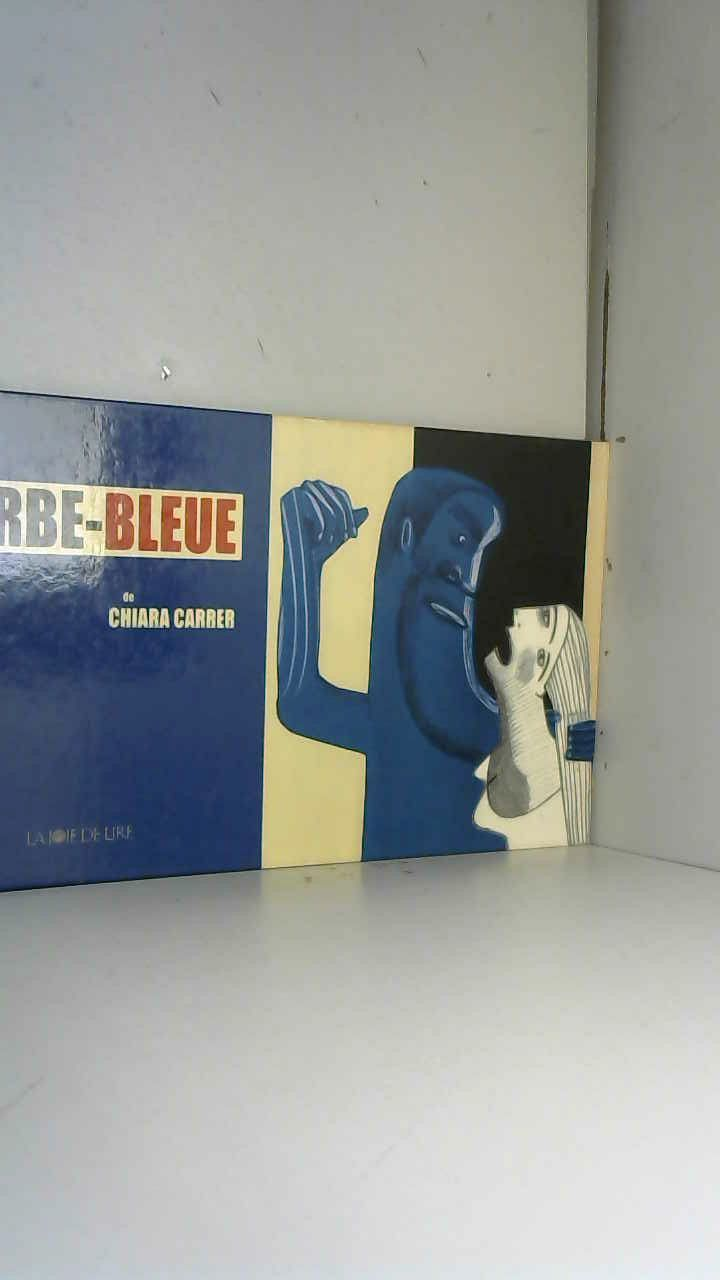book: (0, 362, 643, 914)
